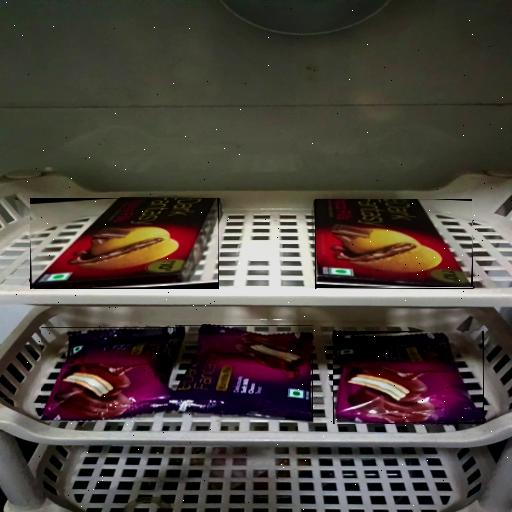Choco Fills: (30, 198, 219, 289), (316, 200, 474, 290)
Choco Pie: (333, 331, 484, 424), (42, 327, 184, 420), (175, 325, 313, 420)
